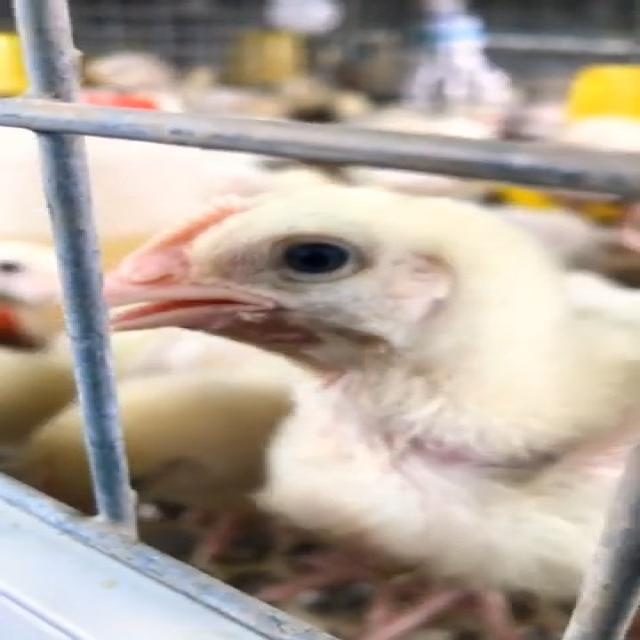Breathing: (96, 172, 638, 638)
